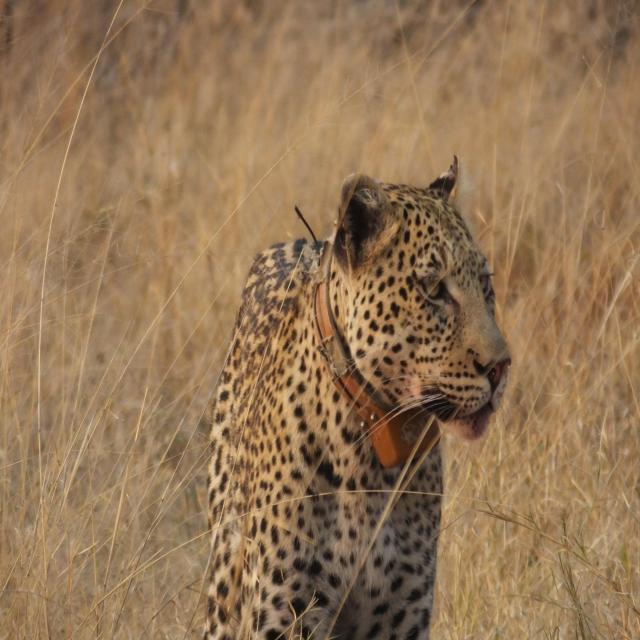Leopard: (190, 168, 510, 640)
